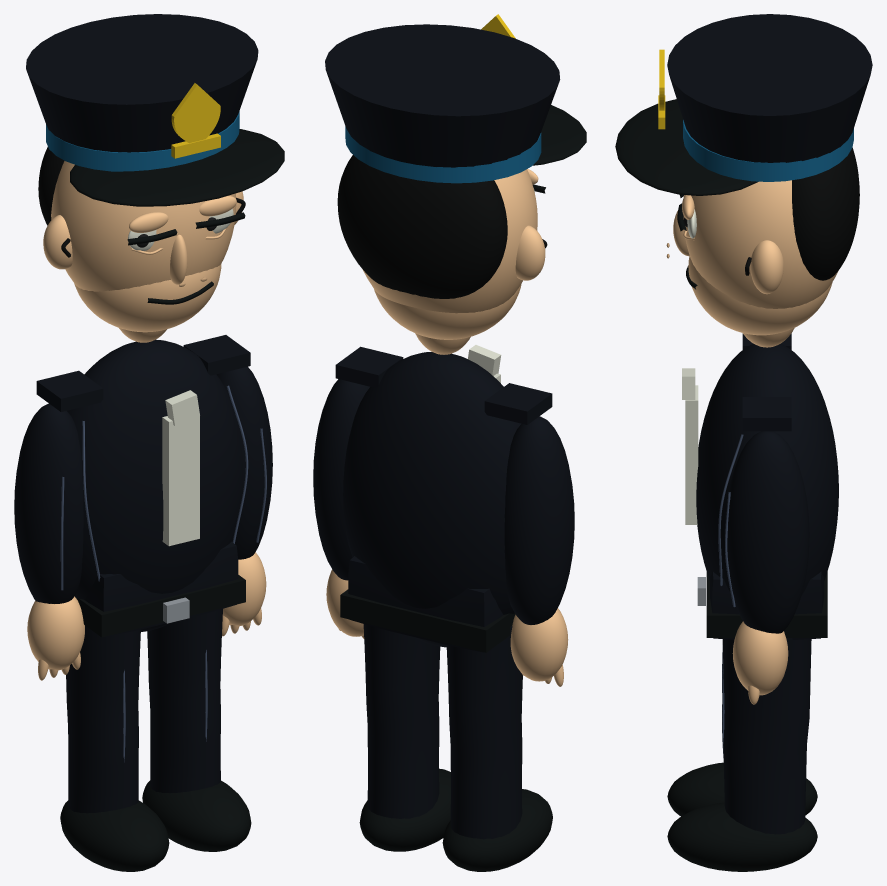
Rendered from stephen-marsh.glb.
The picture shows the model from 3 angles, left to right: view 1: azimuth 30°, elevation 25°; view 2: azimuth 150°, elevation 25°; view 3: azimuth 270°, elevation 25°; orthographic projection.
Visible parts, largest first — view 1: Torso, Police peaked cap, Head, LeftLeg, RightLeg, LeftArm, Cap visor, RightArm, Blue hatband, Gold cap badge; view 2: Torso, Head, Police peaked cap, LeftLeg, RightLeg, LeftArm, RightArm, Blue hatband, Cap visor; view 3: Police peaked cap, Torso, Head, RightLeg, RightArm, Cap visor, Blue hatband, LeftLeg, Gold cap badge.
Part boxes in pixels (x1,y1,x2,y2): Torso: (36,335,250,637); Police peaked cap: (26,14,258,152); Head: (38,147,245,342); LeftLeg: (60,625,169,871); RightLeg: (142,609,251,851); LeftArm: (14,403,84,670); Cap visor: (70,129,284,206); RightArm: (216,366,272,626); Blue hatband: (46,111,239,171); Gold cap badge: (171,83,220,158); Torso: (335,345,552,652); Head: (337,155,547,354); Police peaked cap: (325,24,560,167); LeftLeg: (442,626,552,871); RightLeg: (359,624,450,851); LeftArm: (504,416,574,681); RightArm: (313,379,369,636); Blue hatband: (345,126,541,183); Cap visor: (533,105,586,165); Police peaked cap: (667,14,872,162); Torso: (682,333,838,639); Head: (673,147,859,347); RightLeg: (667,638,817,871); RightArm: (724,431,809,695); Cap visor: (615,99,758,195); Blue hatband: (683,120,853,181); LeftLeg: (667,714,817,816); Gold cap badge: (658,49,665,129).
Bounding box in the file's own units: 0.87 × 2.69 × 0.7873.
